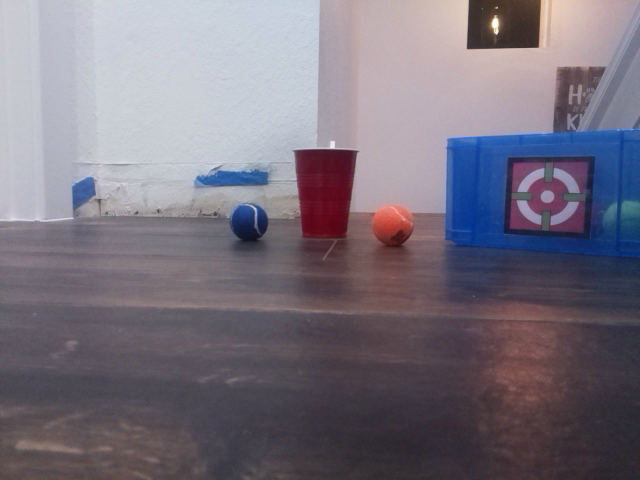blue-ball: (228, 201, 269, 241)
drop-bin: (504, 154, 595, 239)
orange-ball: (370, 203, 415, 247)
